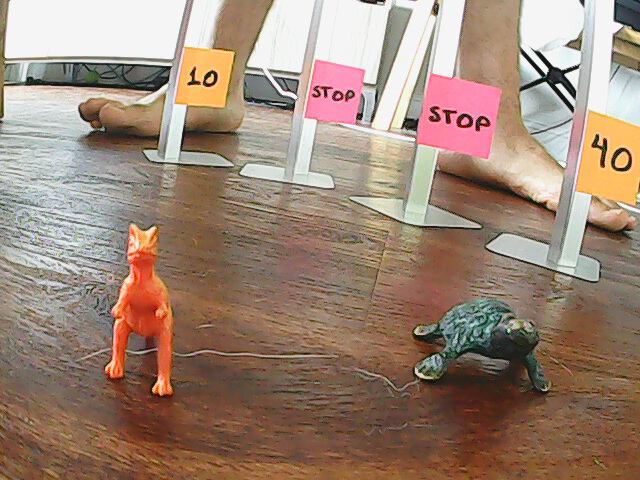10: (181, 57, 225, 101)
40: (582, 126, 640, 190)
dinosaur: (102, 219, 178, 402)
stop: (425, 90, 494, 146), (311, 75, 357, 117)
turtle: (407, 294, 558, 398)
